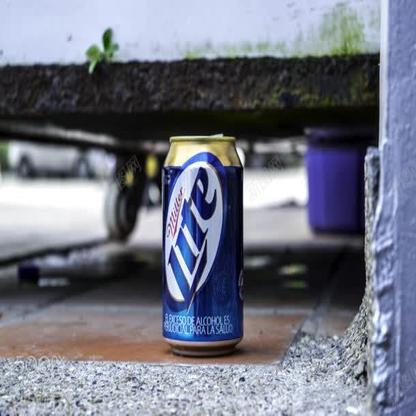can: (160, 129, 251, 356)
